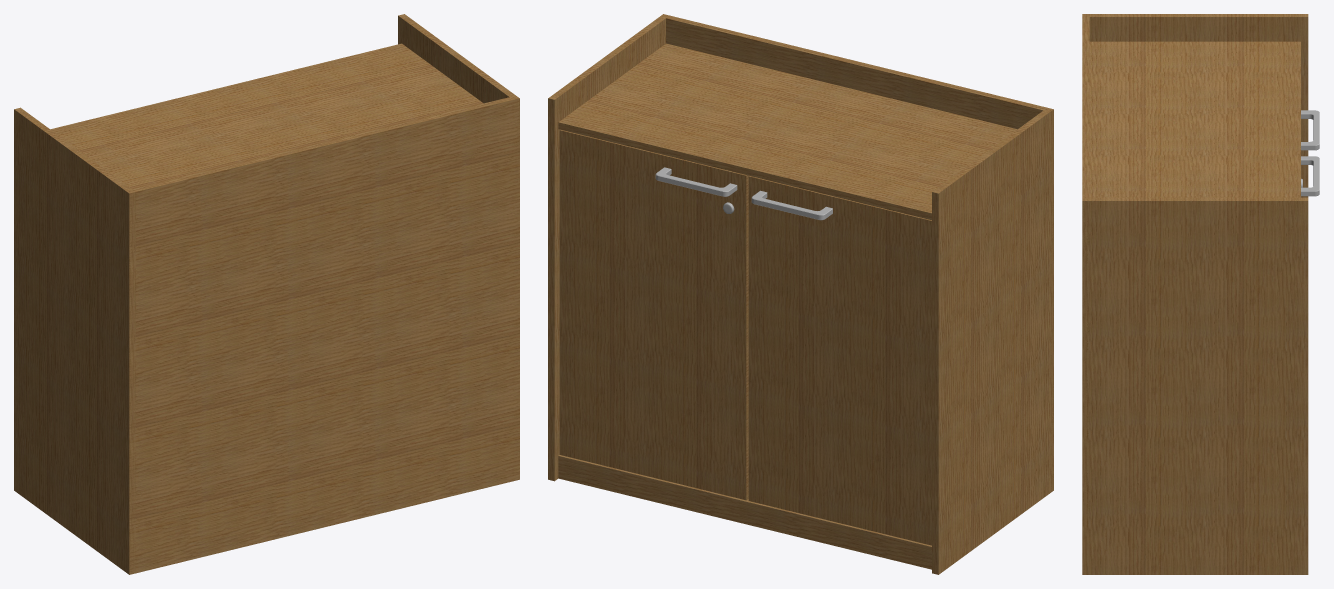
Rendered from mueblecito.fbx.
3 views of the same model, side by side, from view 1: azimuth 30°, elevation 25°; view 2: azimuth 150°, elevation 25°; view 3: azimuth 270°, elevation 25° (orthographic).
Parts seen in each view (by area): view 1: Rectangle9; view 2: Rectangle9; view 3: Rectangle9.
Part boxes in pixels (left/top/right/bottom): Rectangle9: left=14, top=14, right=519, bottom=574; Rectangle9: left=548, top=14, right=1053, bottom=574; Rectangle9: left=1082, top=14, right=1319, bottom=574.
Size of the model in its own units: 0.8636 by 0.806 by 0.4641.
3 materials, 1 textured.
